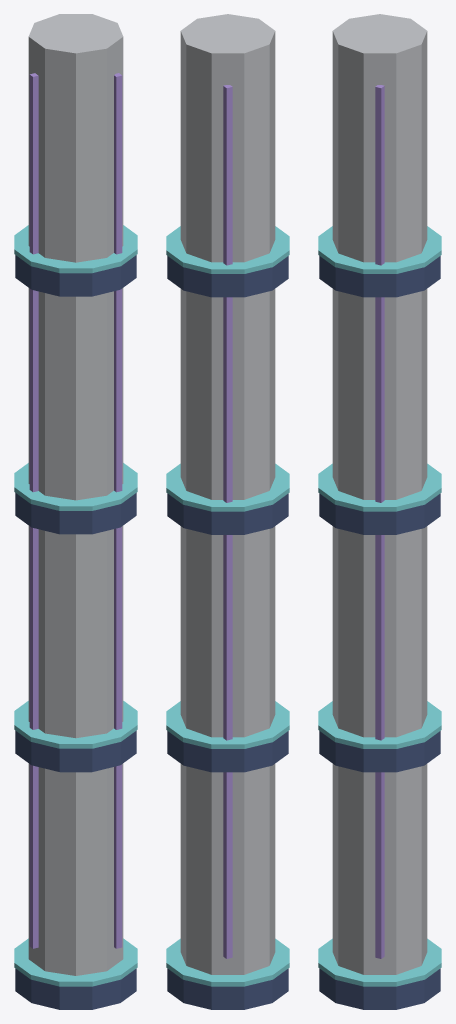
Rendered from rn2-orbital-truss.glb.
The picture shows the model from 3 angles, left to right: view 1: azimuth 30°, elevation 25°; view 2: azimuth 210°, elevation 25°; view 3: azimuth 330°, elevation 25°; orthographic projection.
Visible parts, largest first — view 1: rn2_orbital_truss_body, rn2_orbital_truss_glow; view 2: rn2_orbital_truss_body, rn2_orbital_truss_glow; view 3: rn2_orbital_truss_body, rn2_orbital_truss_glow.
Part boxes in pixels (bbox=[...]): rn2_orbital_truss_body: bbox=[15, 14, 136, 1009]; rn2_orbital_truss_glow: bbox=[14, 73, 137, 986]; rn2_orbital_truss_body: bbox=[167, 14, 288, 1009]; rn2_orbital_truss_glow: bbox=[166, 85, 289, 986]; rn2_orbital_truss_body: bbox=[319, 14, 440, 1009]; rn2_orbital_truss_glow: bbox=[318, 85, 441, 986].
Bounding box in the file's own units: 1.41 × 12 × 1.41.
